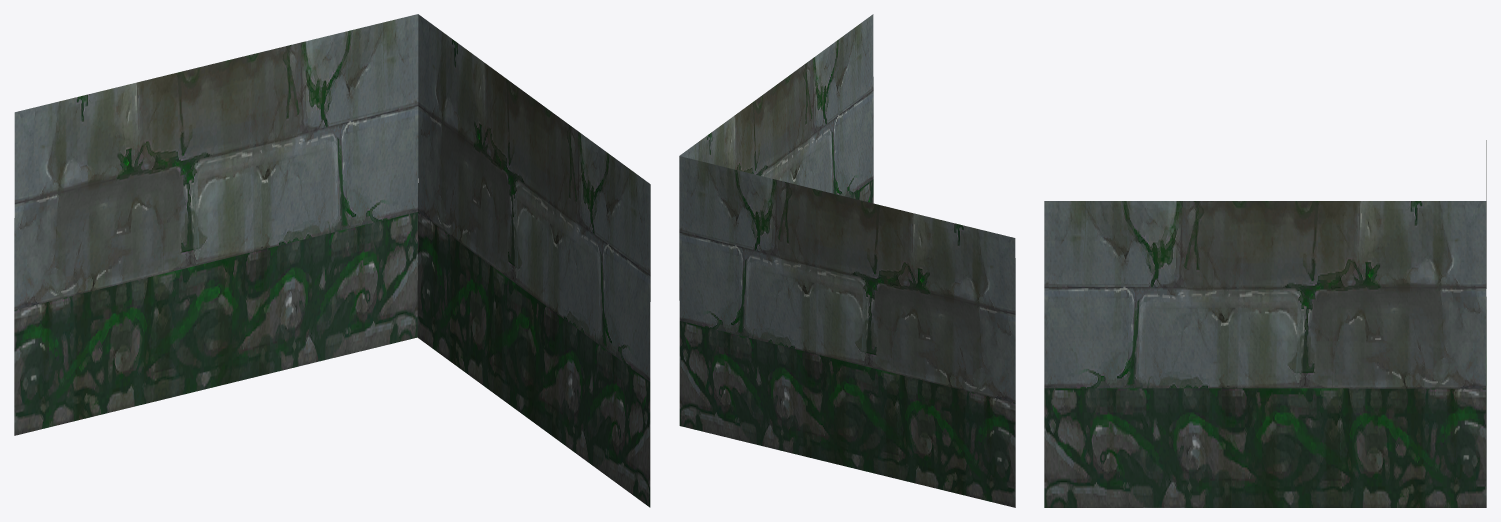
Rendered from stemple_half_concave_04.fbx.
The picture shows the model from 3 angles, left to right: view 1: azimuth 30°, elevation 25°; view 2: azimuth 150°, elevation 25°; view 3: azimuth 270°, elevation 25°; orthographic projection. The views are drawn at different scales.
Parts seen in each view (by area): view 1: obj1.109; view 2: obj1.109; view 3: obj1.109.
Boxes of the visible parts, box(x1,y1,x2,y2) form: obj1.109: box(14, 14, 650, 507); obj1.109: box(679, 14, 1015, 507); obj1.109: box(1044, 140, 1486, 507).
Bounding box in the file's own units: 3.59 × 2.75 × 3.59.
